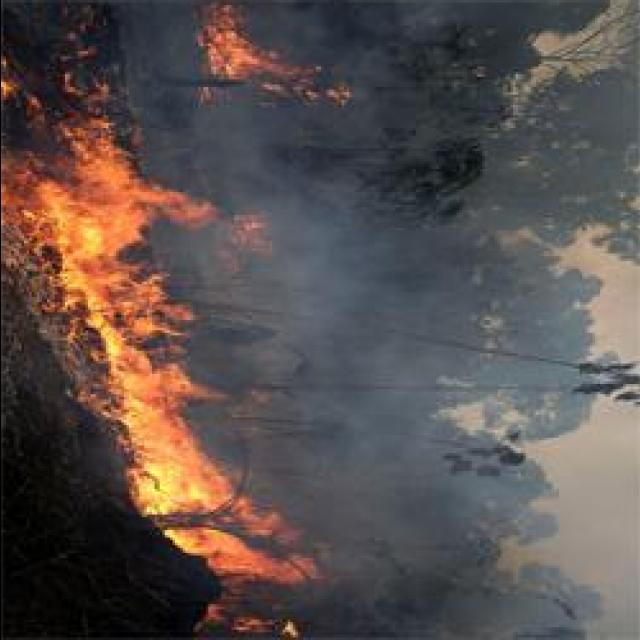fire: (36, 142, 152, 266), (202, 5, 272, 77), (140, 438, 198, 496)
smoke: (550, 398, 638, 594), (333, 20, 405, 148), (310, 472, 422, 530), (280, 218, 342, 302)
